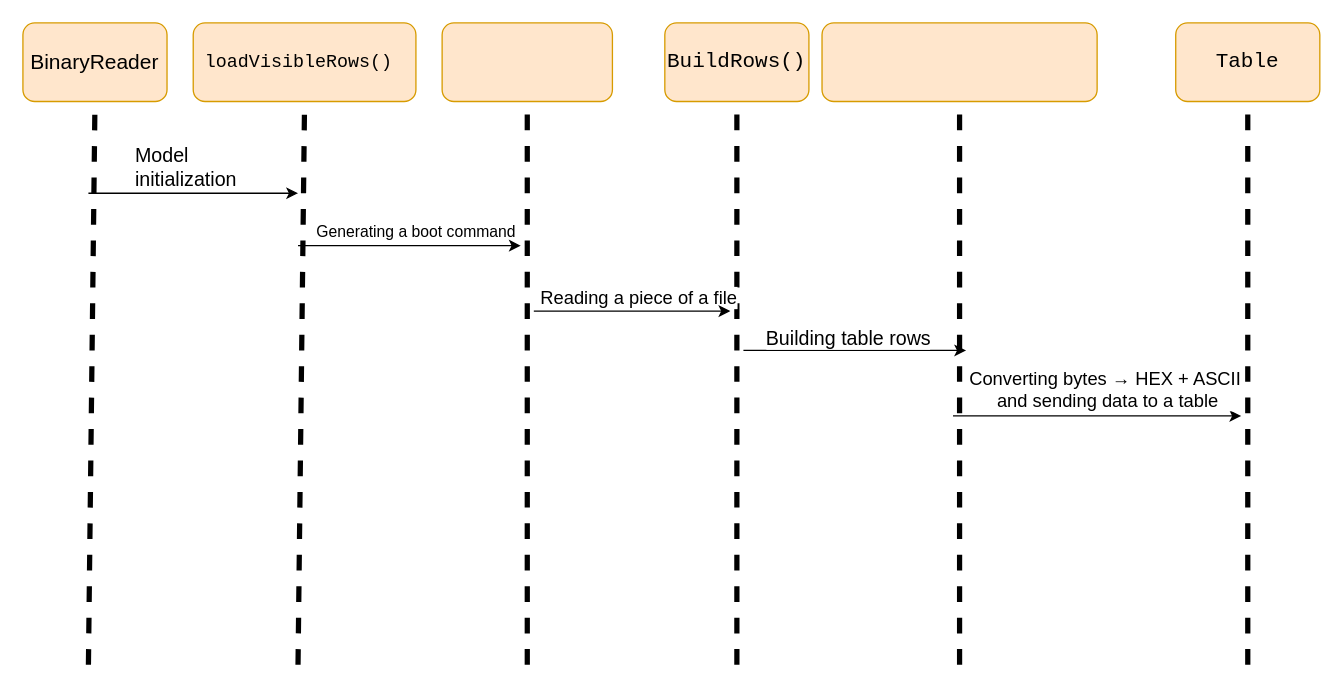
Some shapes in this 1343 by 692 pixel diagram are drawn without their labels. Here are the shapes that lost their labels. From the top down, the centre of each, then its label:
At [526,62]: "file.ReadAt()".
At [959,62]: "FormatHexAndASCII()".
